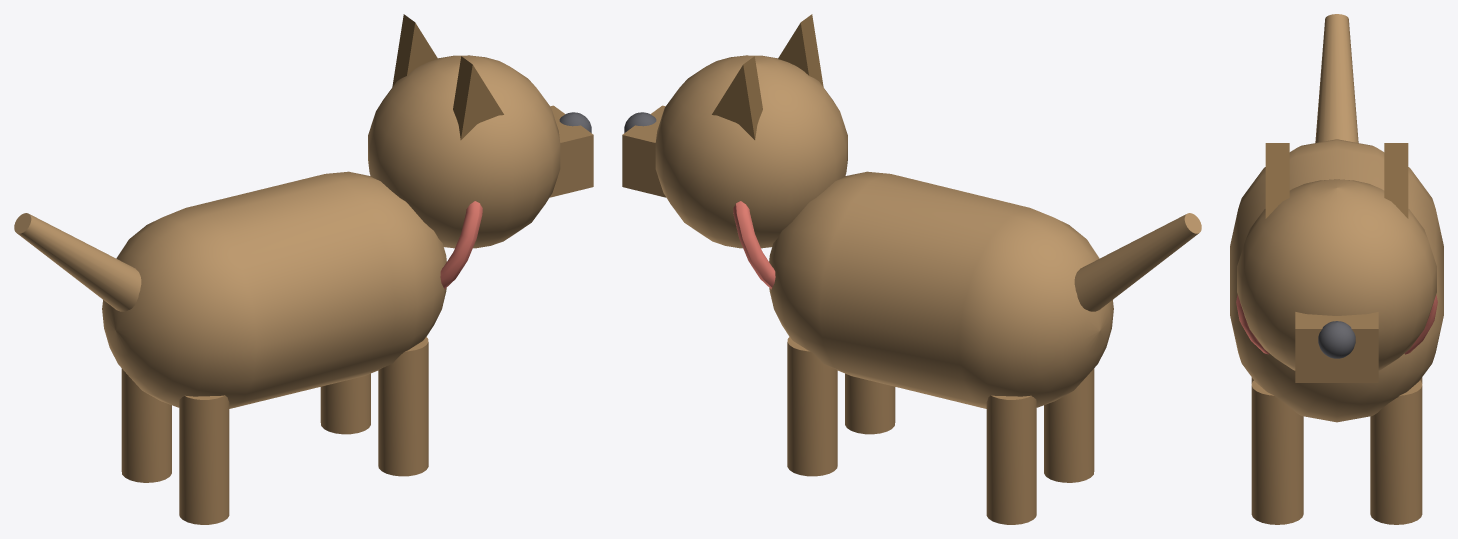
Rendered from cho_ngao.glb.
3 views of the same model, side by side, from view 1: azimuth 30°, elevation 25°; view 2: azimuth 150°, elevation 25°; view 3: azimuth 270°, elevation 25° (orthographic). The views are drawn at different scales.
Visible parts, largest first — view 1: Cap1, Sph1, Cyl3, Cyl5, Cyl1, Cyl2, Cyl4, Box1, Pri1, Pri2, Tor1; view 2: Cap1, Sph1, Cyl2, Cyl4, Cyl1, Cyl3, Cyl5, Box1, Pri2, Pri1, Tor1; view 3: Sph1, Cap1, Cyl4, Cyl5, Box1, Cyl1, Pri1, Pri2, Sph2, Tor1.
Boxes of the visible parts, left/top/right/bottom form: Cap1: left=102, top=171, right=446, bottom=408; Sph1: left=368, top=55, right=560, bottom=248; Cyl3: left=179, top=395, right=229, bottom=524; Cyl5: left=378, top=337, right=428, bottom=476; Cyl1: left=14, top=213, right=141, bottom=311; Cyl2: left=121, top=368, right=171, bottom=482; Cyl4: left=320, top=373, right=370, bottom=434; Box1: left=550, top=105, right=593, bottom=197; Pri1: left=453, top=56, right=503, bottom=139; Pri2: left=392, top=14, right=437, bottom=86; Tor1: left=440, top=201, right=482, bottom=289; Cap1: left=769, top=171, right=1113, bottom=408; Sph1: left=655, top=55, right=847, bottom=248; Cyl2: left=986, top=395, right=1036, bottom=524; Cyl4: left=787, top=337, right=837, bottom=476; Cyl1: left=1074, top=213, right=1201, bottom=311; Cyl3: left=1044, top=368, right=1094, bottom=482; Cyl5: left=845, top=373, right=895, bottom=434; Box1: left=622, top=105, right=665, bottom=197; Pri2: left=712, top=56, right=762, bottom=139; Pri1: left=778, top=14, right=823, bottom=86; Tor1: left=733, top=201, right=775, bottom=289; Sph1: left=1237, top=179, right=1436, bottom=370; Cap1: left=1230, top=139, right=1443, bottom=422; Cyl4: left=1370, top=380, right=1422, bottom=524; Cyl5: left=1251, top=380, right=1303, bottom=524; Box1: left=1295, top=312, right=1378, bottom=382; Cyl1: left=1315, top=14, right=1358, bottom=142; Pri1: left=1265, top=143, right=1289, bottom=218; Pri2: left=1384, top=143, right=1408, bottom=218; Sph2: left=1318, top=321, right=1355, bottom=358; Tor1: left=1236, top=294, right=1437, bottom=354.
Bounding box in the file's own units: 0.5759 × 0.3745 × 0.18.
